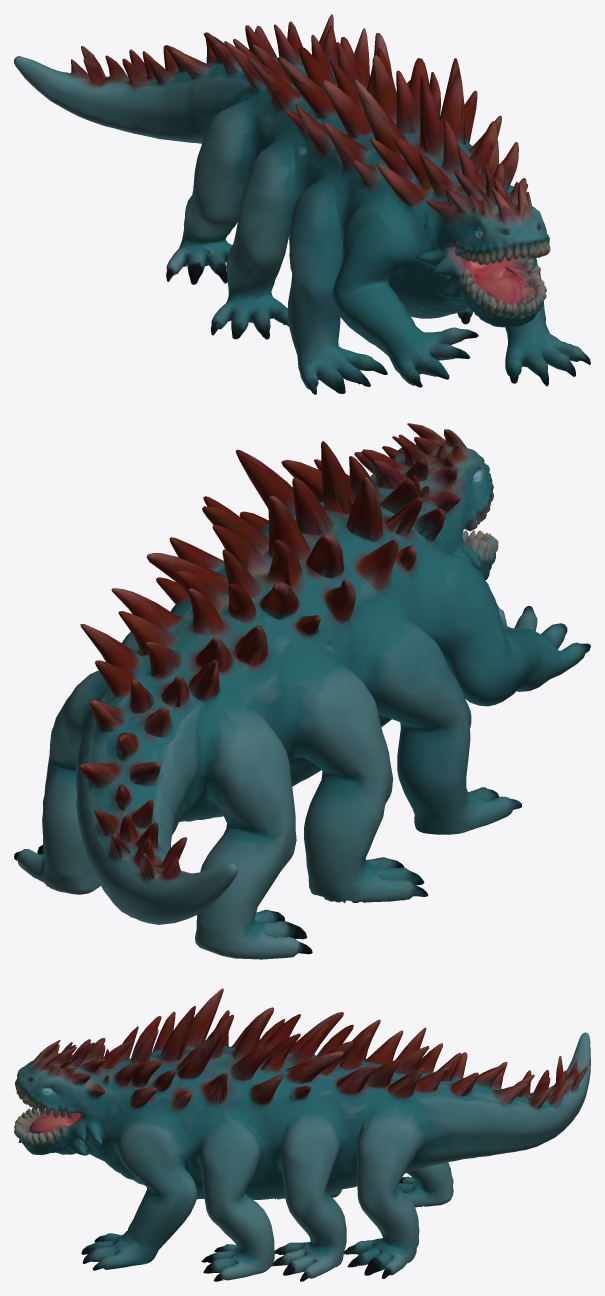
The model's file is MZ4250 - Basilisk 2.glb.
The picture shows the model from 3 angles, top to bottom: view 1: azimuth 30°, elevation 25°; view 2: azimuth 150°, elevation 25°; view 3: azimuth 270°, elevation 25°; orthographic projection. The views are drawn at different scales.
Parts seen in each view (by area): view 1: default; view 2: default; view 3: default.
Part boxes in pixels (box(x1,y1,x2,y2)): default: box(14, 14, 590, 394); default: box(14, 423, 590, 959); default: box(14, 988, 590, 1281).
Bounding box in the file's own units: 0.8955 × 0.7784 × 1.8.
1 material, 1 textured.
